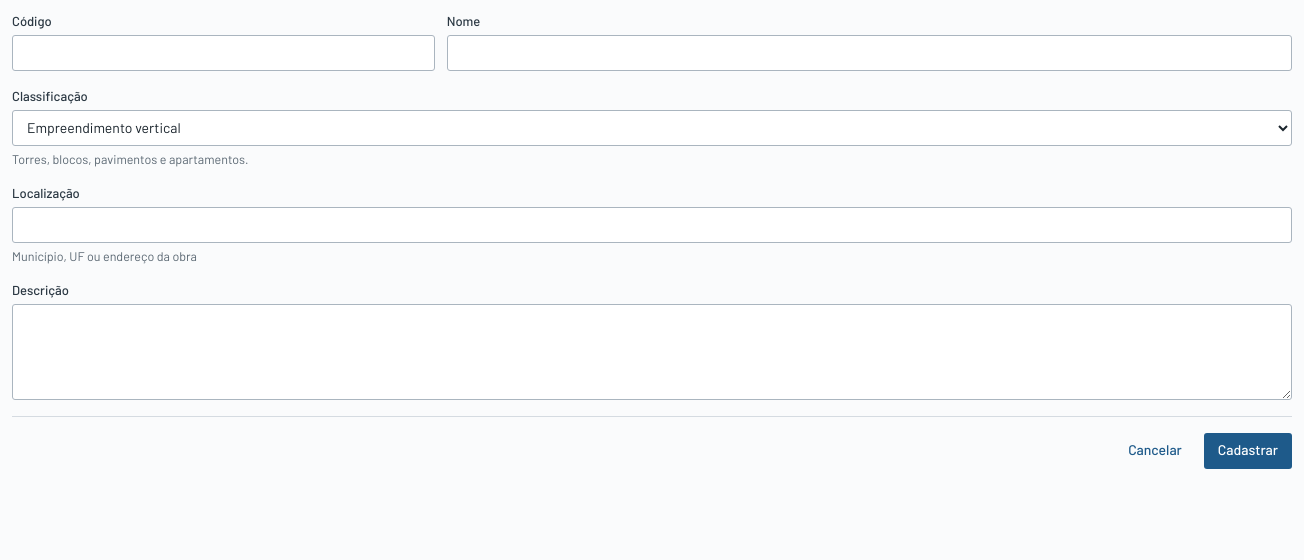
ProjectForm › exibe erro geral e erros de campo devolvidos pela API
In the field labelled "Código": (223,53) x1=12 y1=35 x2=435 y2=71, type "RES-01"
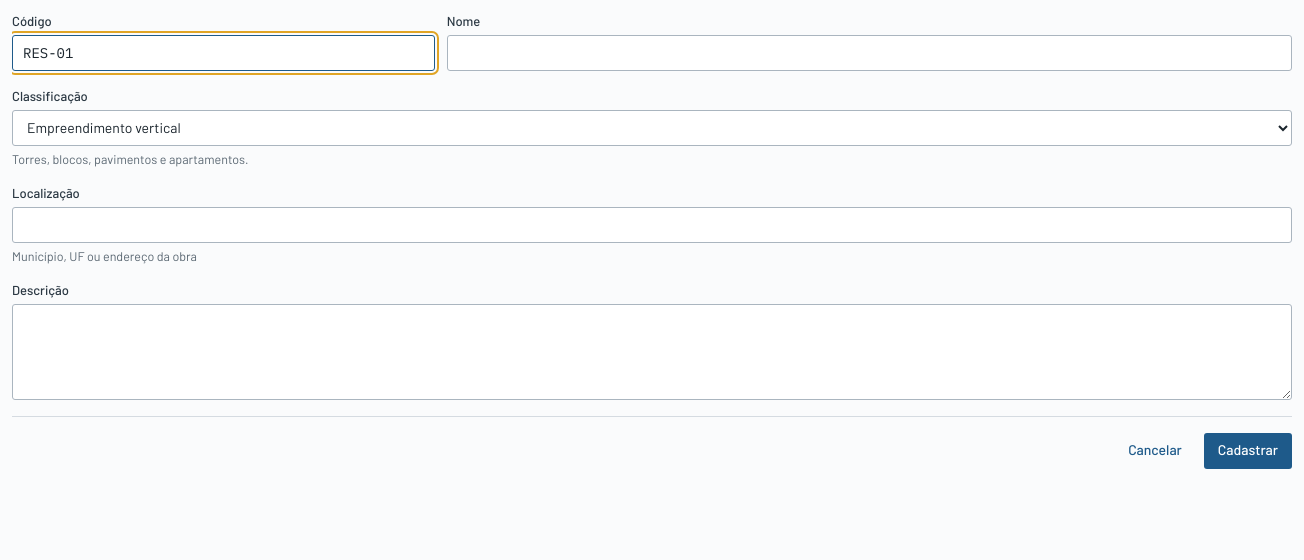
In the field labelled "Nome": (869,53) x1=447 y1=35 x2=1292 y2=71, type "Residencial"
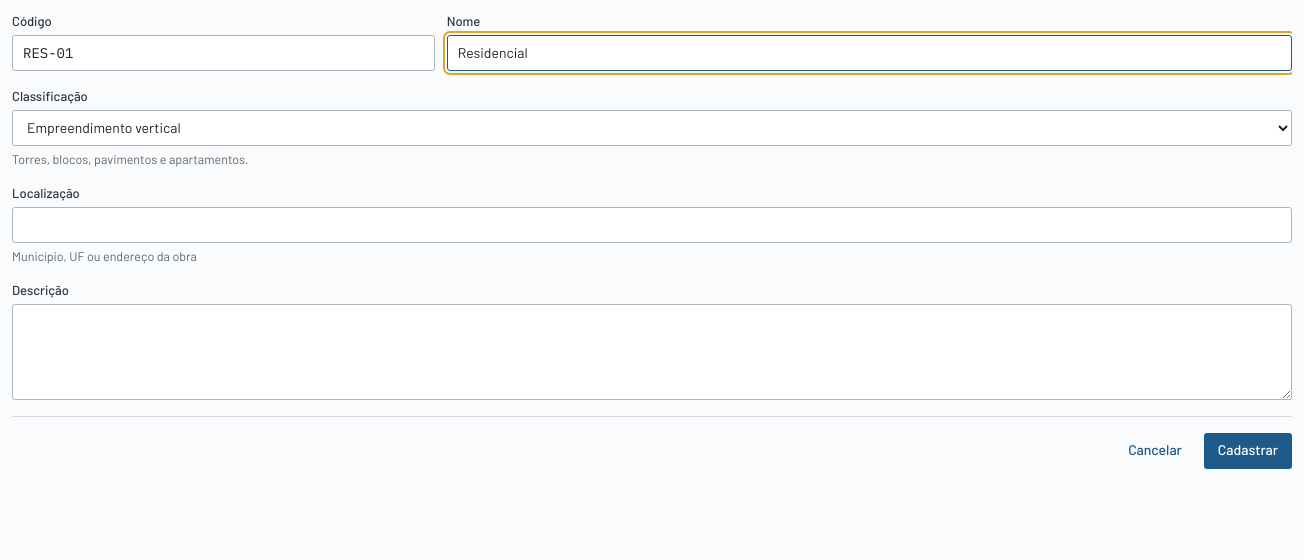
Click the button "Cadastrar": (1248,451) x1=1204 y1=433 x2=1292 y2=469
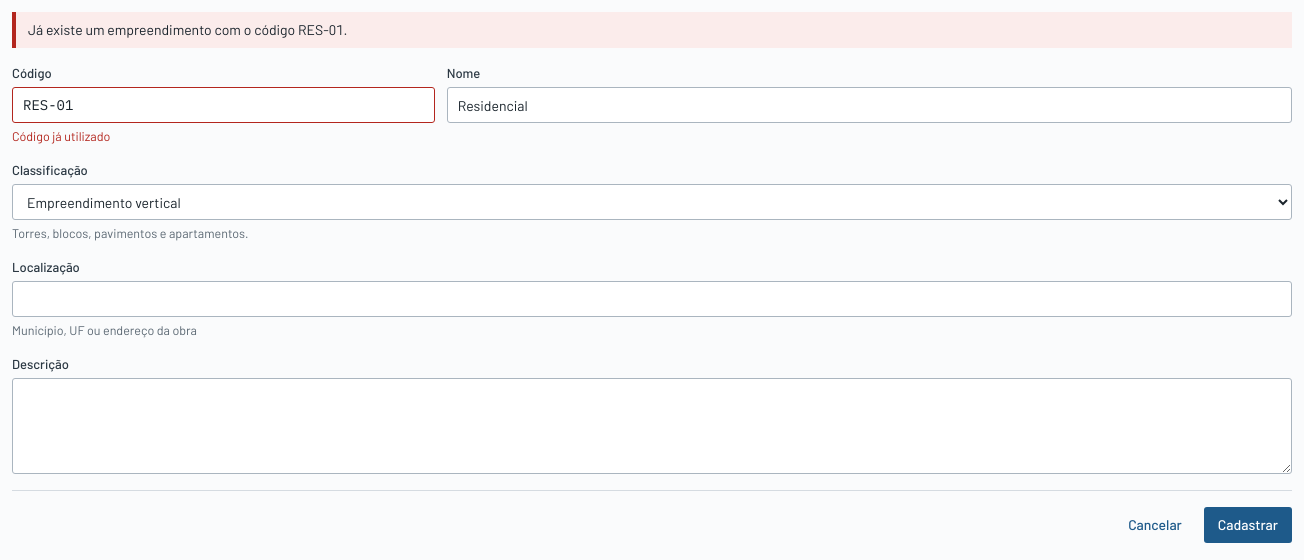
expect the text "Já existe um empreendimento com o código RES-01." is shown: met, box x1=12 y1=12 x2=1292 y2=48
expect the text "Código já utilizado" is shown: met, box x1=12 y1=128 x2=110 y2=144
